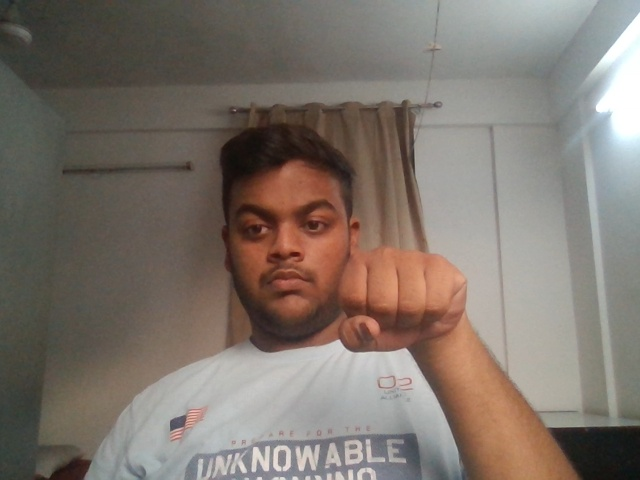Yes: (319, 210, 524, 401)
